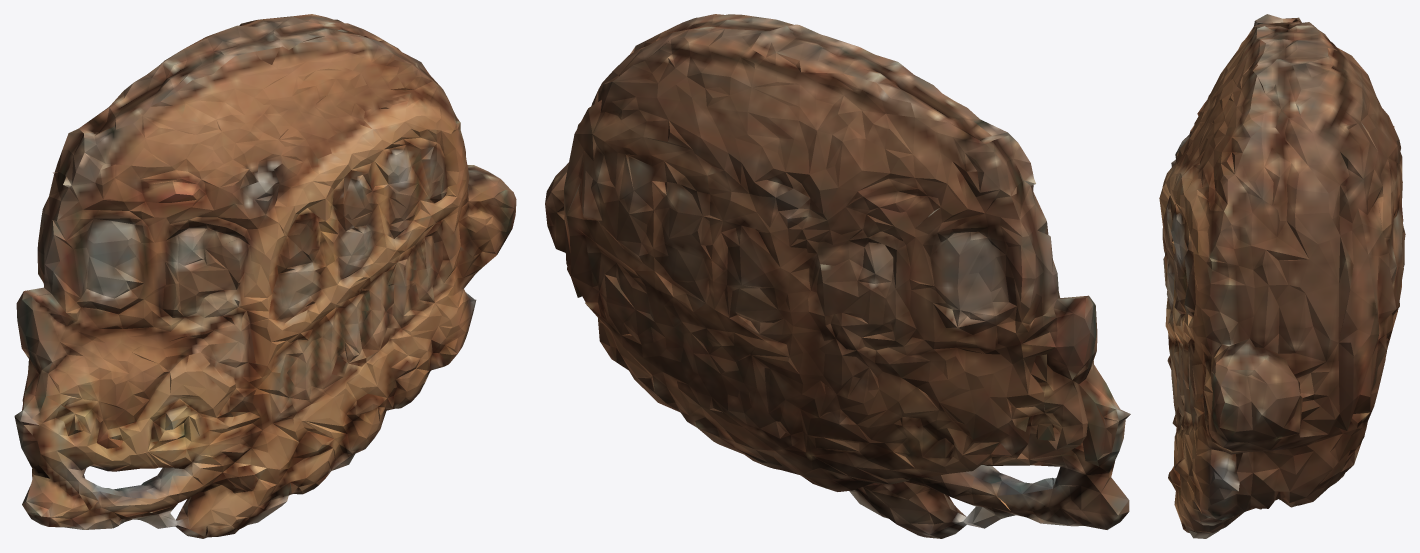
The model's file is daycare_catbusbed.glb.
The picture shows the model from 3 angles, left to right: view 1: azimuth 30°, elevation 25°; view 2: azimuth 150°, elevation 25°; view 3: azimuth 270°, elevation 25°; orthographic projection. The views are drawn at different scales.
Visible parts, largest first — view 1: geometry_0; view 2: geometry_0; view 3: geometry_0.
Boxes of the visible parts, x1=… form: geometry_0: x1=14, y1=14, x2=516, y2=538; geometry_0: x1=545, y1=14, x2=1130, y2=538; geometry_0: x1=1159, y1=14, x2=1405, y2=538.
Bounding box in the file's own units: 0.5741 × 0.5 × 0.219.
Materials: 1 (1 with a texture image).
